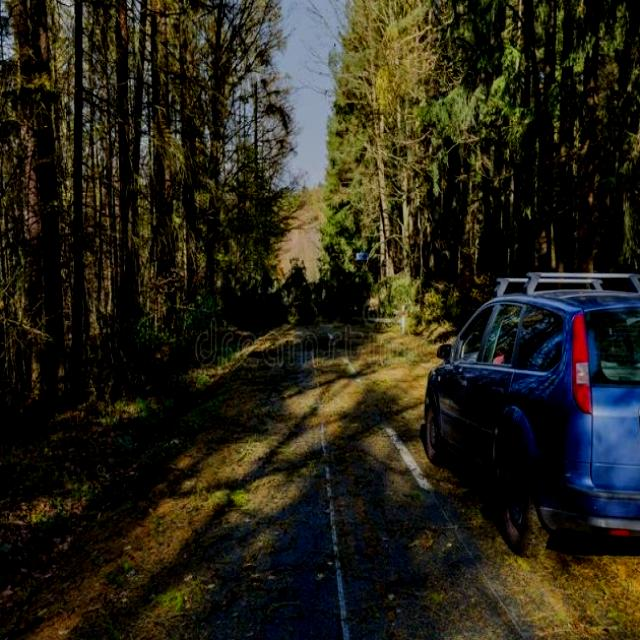fallen_object: (228, 244, 401, 331)
